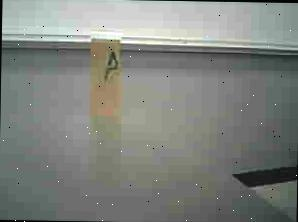Bottle A: (86, 30, 126, 122)
